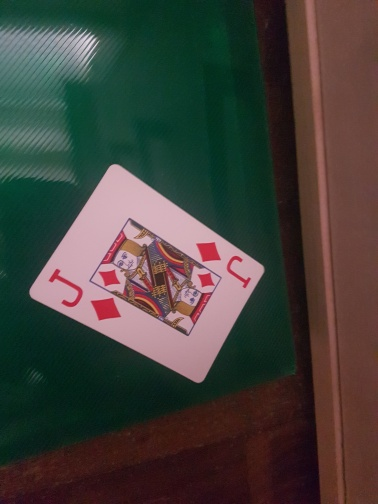jack: (27, 165, 264, 383)
